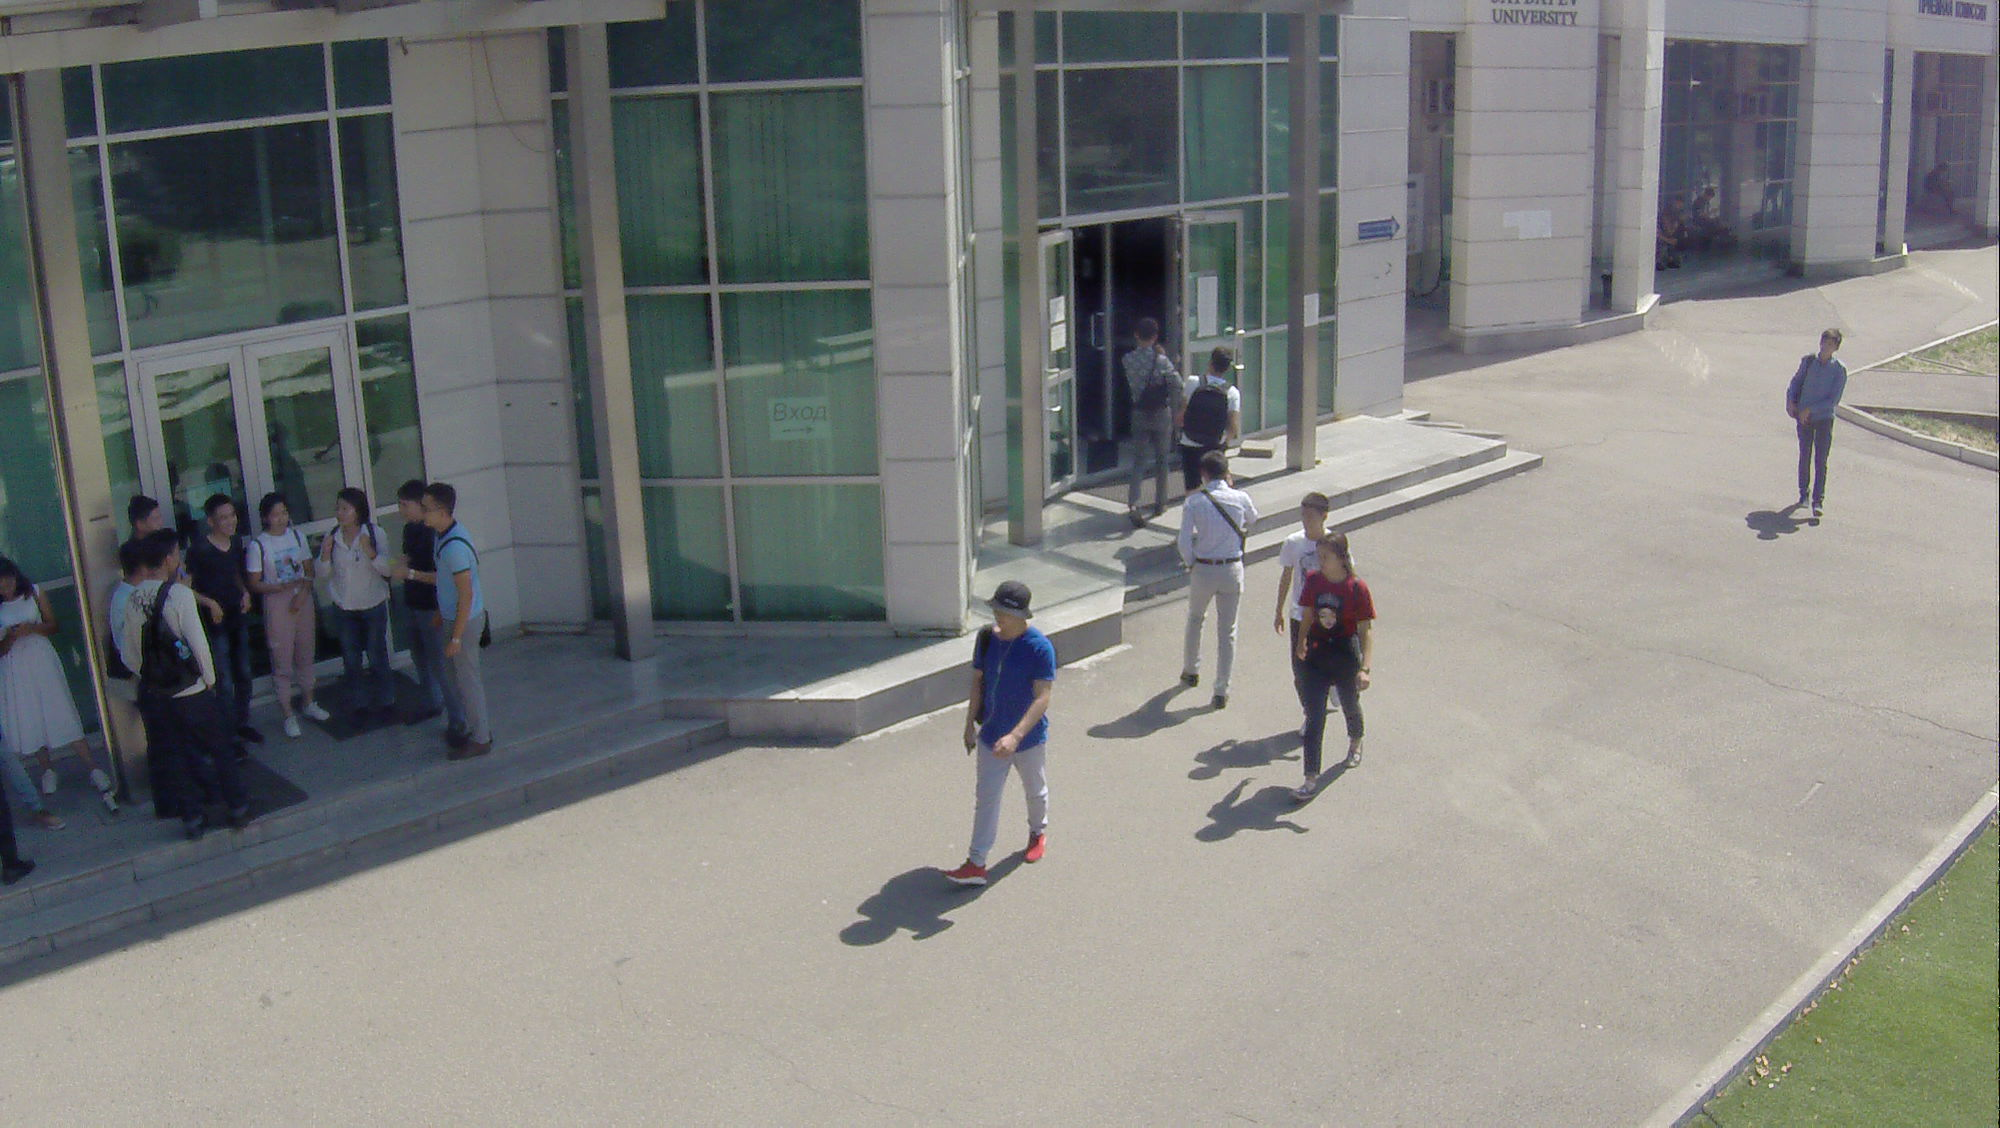person: (926, 576, 1057, 910), (136, 530, 255, 844), (1, 538, 116, 806), (420, 474, 499, 760), (1170, 443, 1249, 722), (322, 478, 407, 730), (1299, 528, 1374, 803), (1110, 308, 1172, 549), (1787, 314, 1845, 535), (269, 489, 317, 748), (204, 483, 247, 743), (389, 463, 433, 683), (1289, 489, 1341, 637), (1195, 337, 1249, 453)
